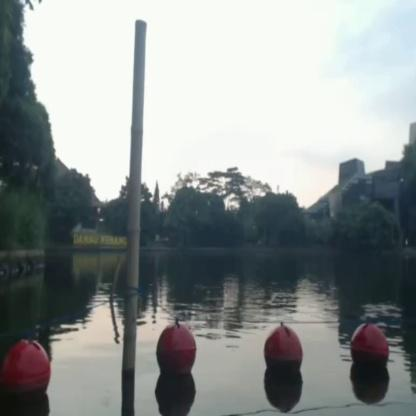red_buoy: (5, 336, 51, 412), (154, 316, 198, 381), (263, 323, 303, 384), (349, 326, 389, 376)
